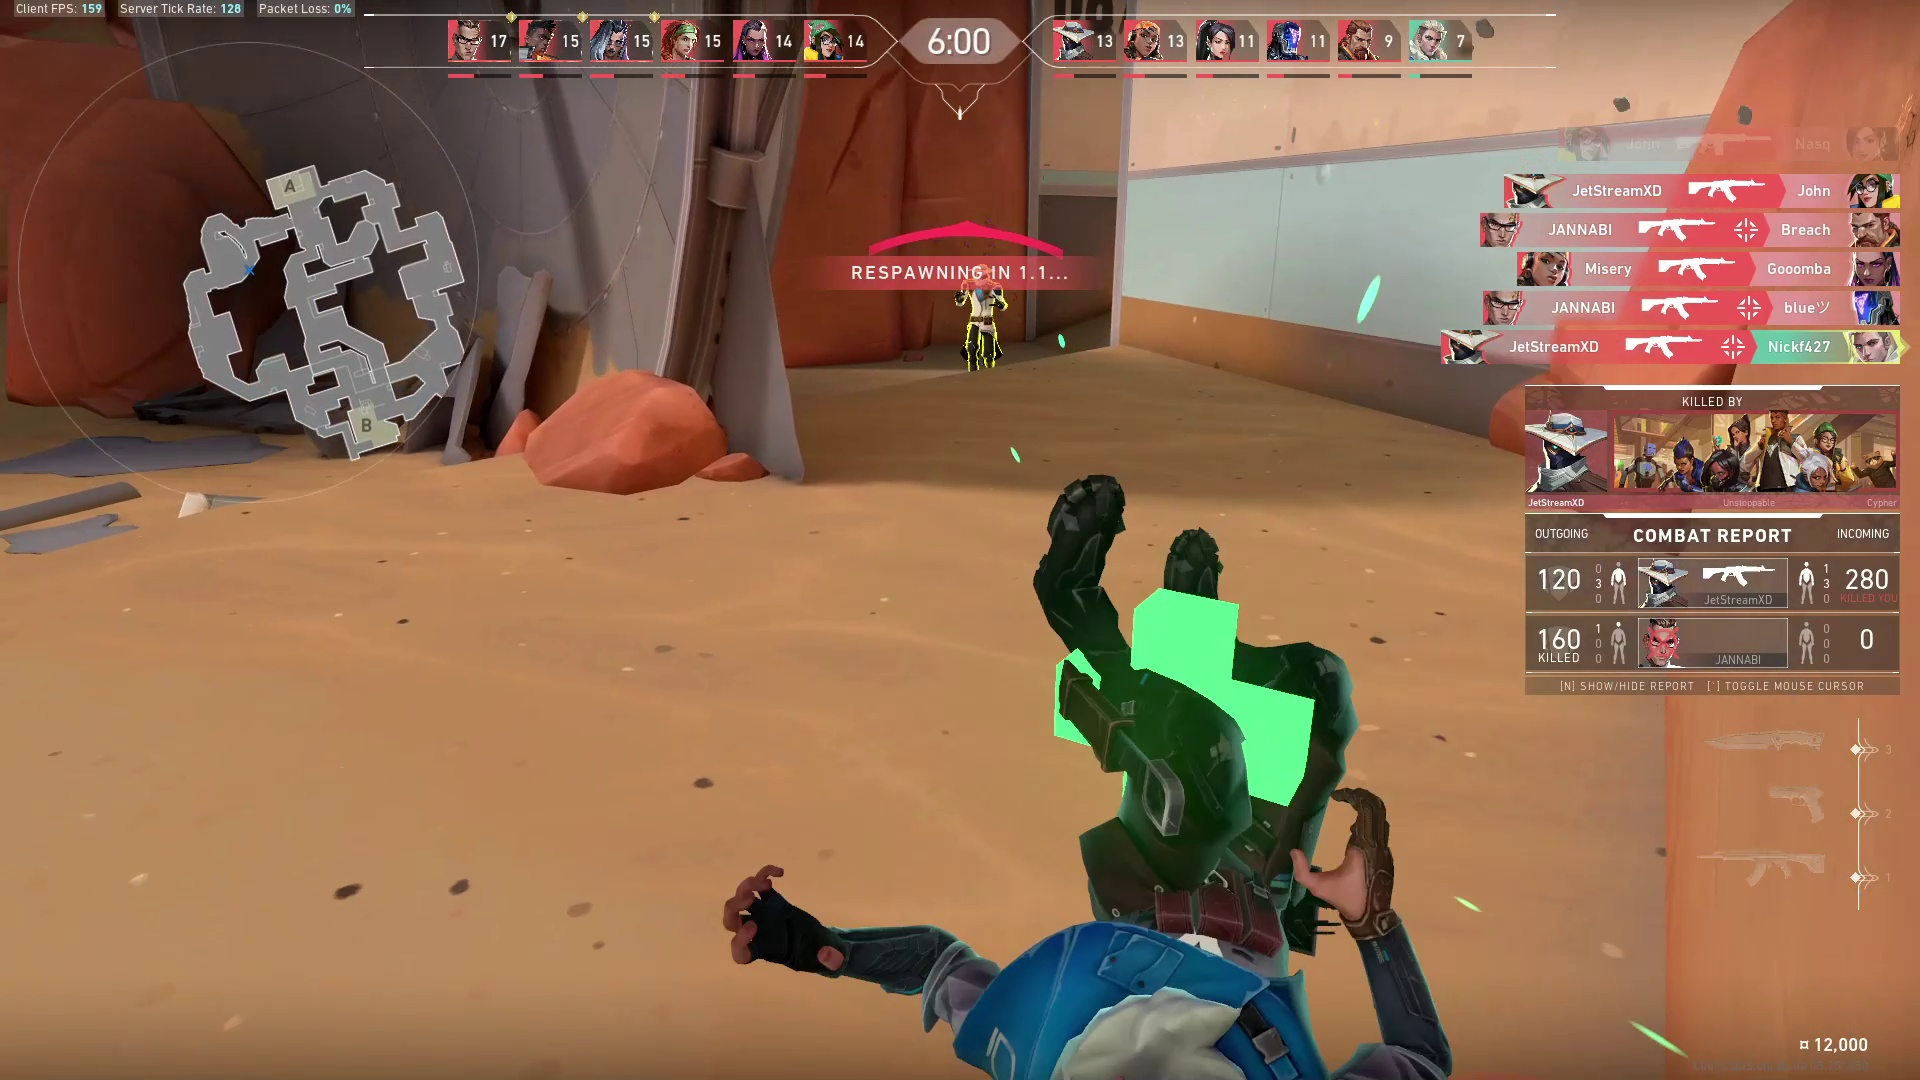enemy_body: (957, 290, 1005, 371)
